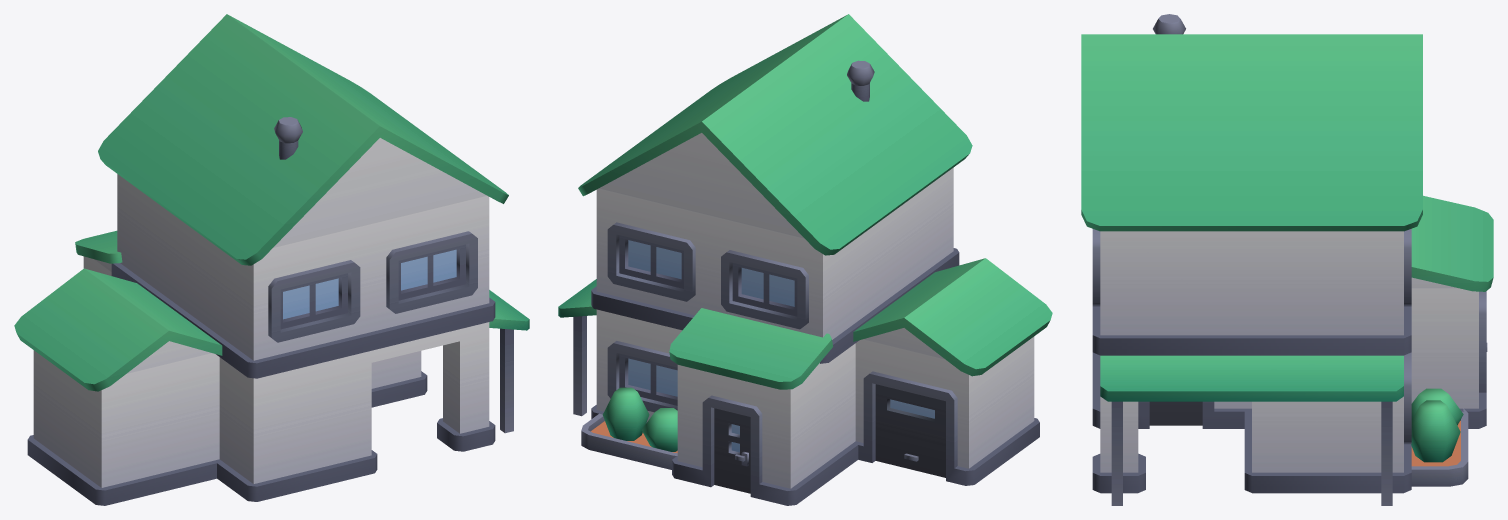
The model's file is suburban-building-type-s.glb.
The picture shows the model from 3 angles, left to right: view 1: azimuth 30°, elevation 25°; view 2: azimuth 150°, elevation 25°; view 3: azimuth 270°, elevation 25°; orthographic projection. The views are drawn at different scales.
Parts seen in each view (by area): view 1: building-type-s; view 2: building-type-s; view 3: building-type-s.
Boxes of the visible parts, x1,y1,x2,y2 form: building-type-s: [14, 14, 529, 505]; building-type-s: [558, 14, 1052, 505]; building-type-s: [1081, 14, 1493, 505].
Size of the model in its own units: 1.41 by 1.14 by 1.09.
1 material, 1 textured.
